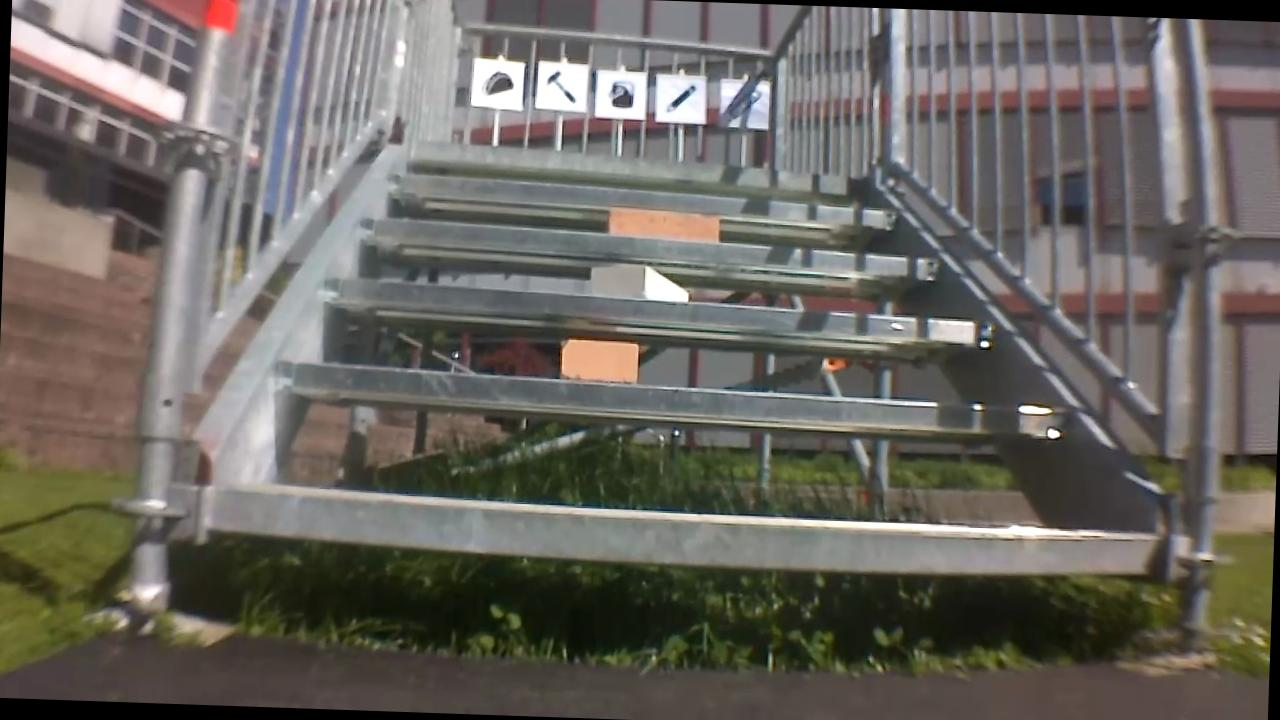brick: (584, 261, 692, 301), (606, 209, 725, 242), (556, 335, 639, 382)
edge: (173, 494, 1161, 583), (275, 366, 1067, 421), (315, 282, 993, 339), (350, 225, 942, 274), (370, 173, 905, 219), (393, 135, 875, 185)
steps: (152, 143, 1219, 590)
